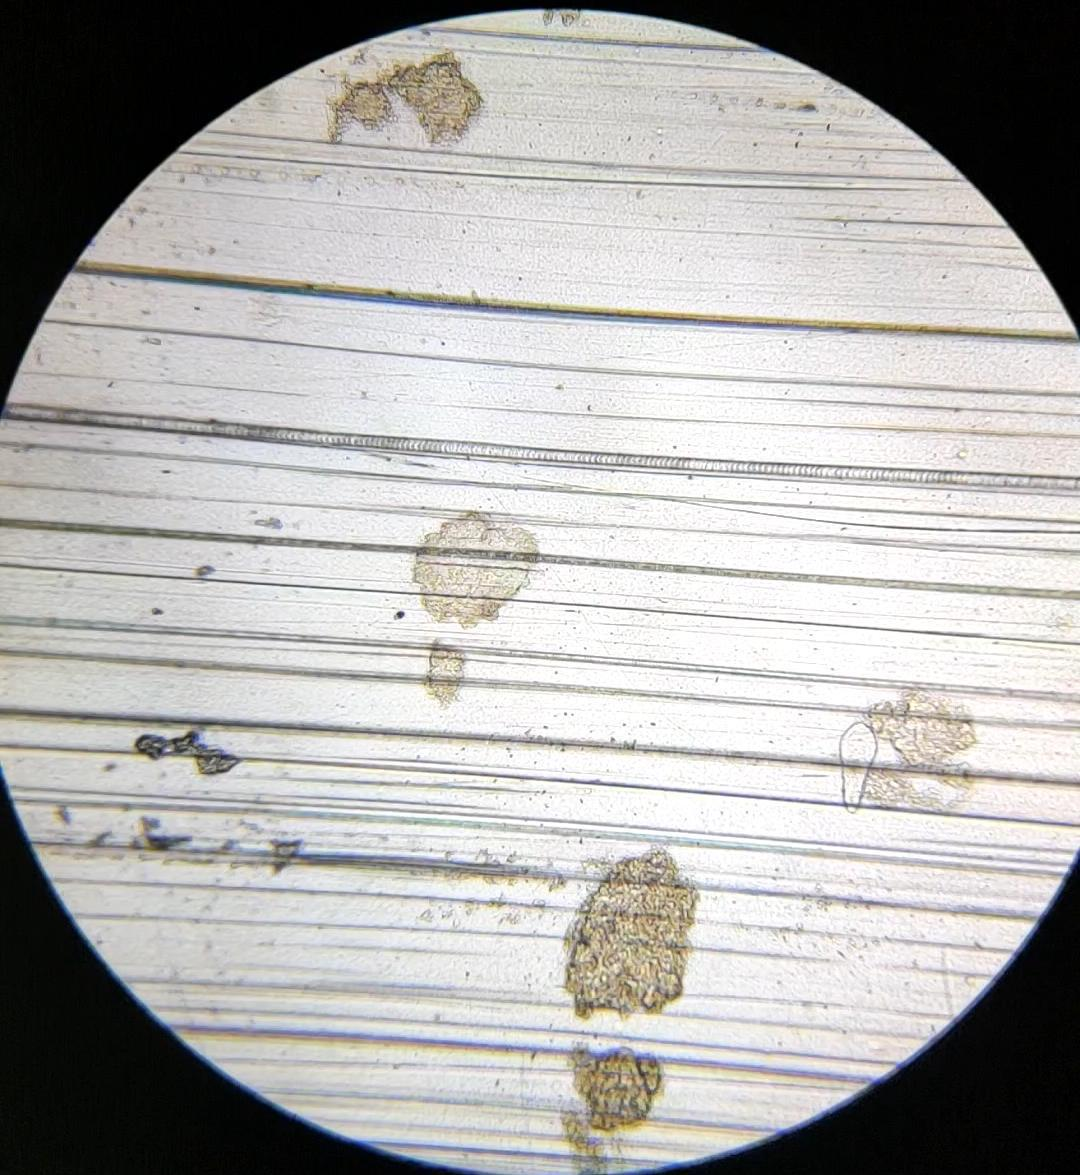Do: (840, 722, 877, 813)
